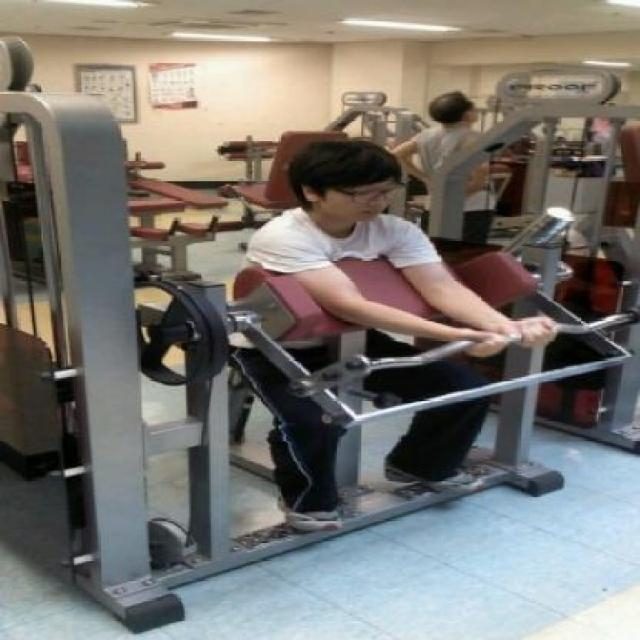arm curl machine: (131, 252, 640, 572)
